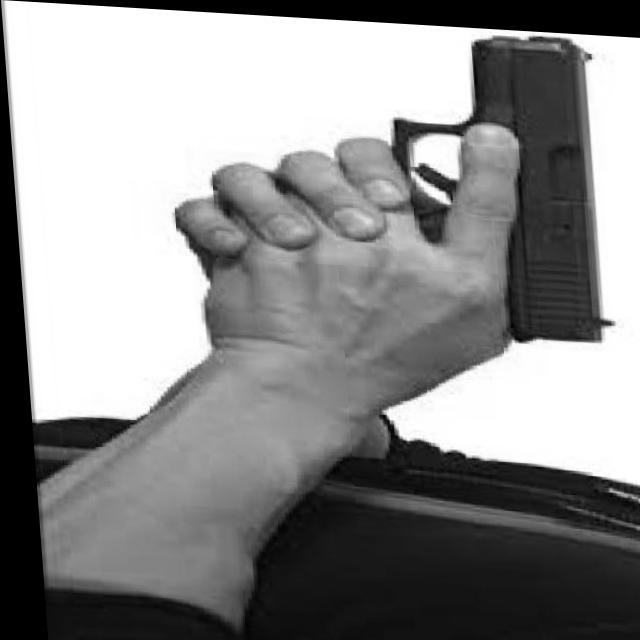handgun: (379, 22, 612, 338)
